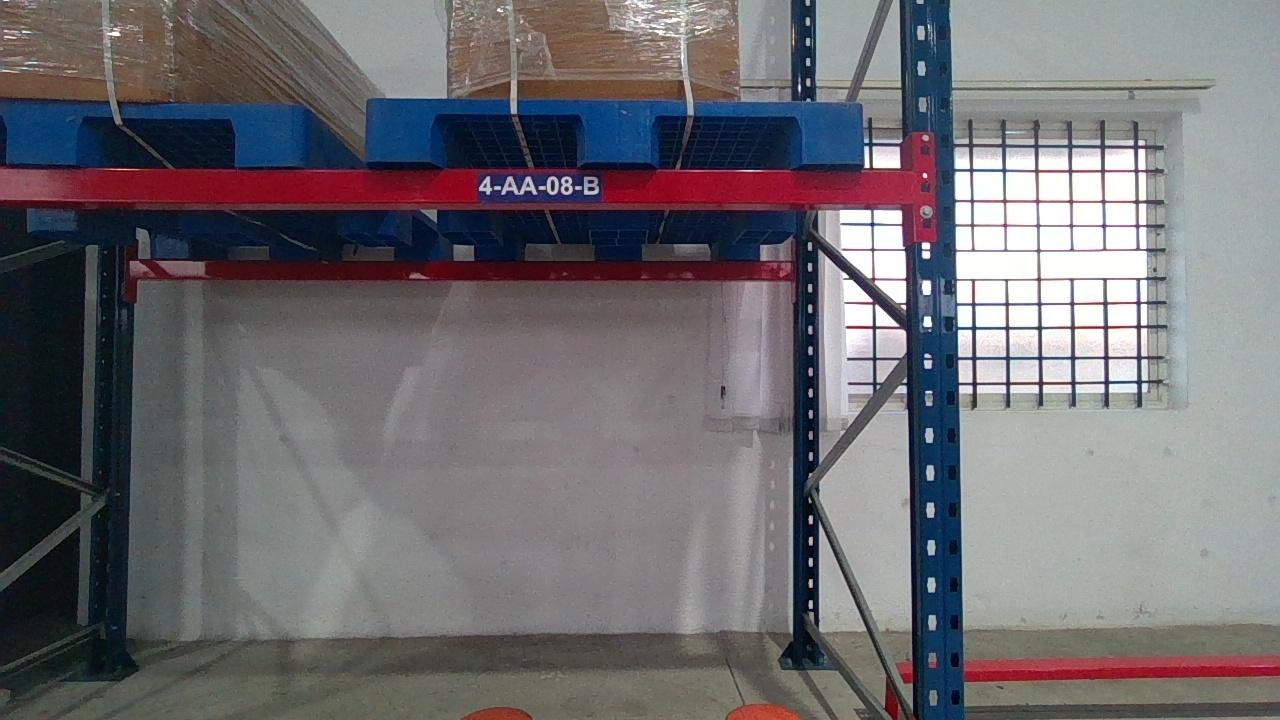h_rack: (1, 165, 916, 203)
small_pallet: (364, 97, 869, 163), (0, 101, 306, 161)
